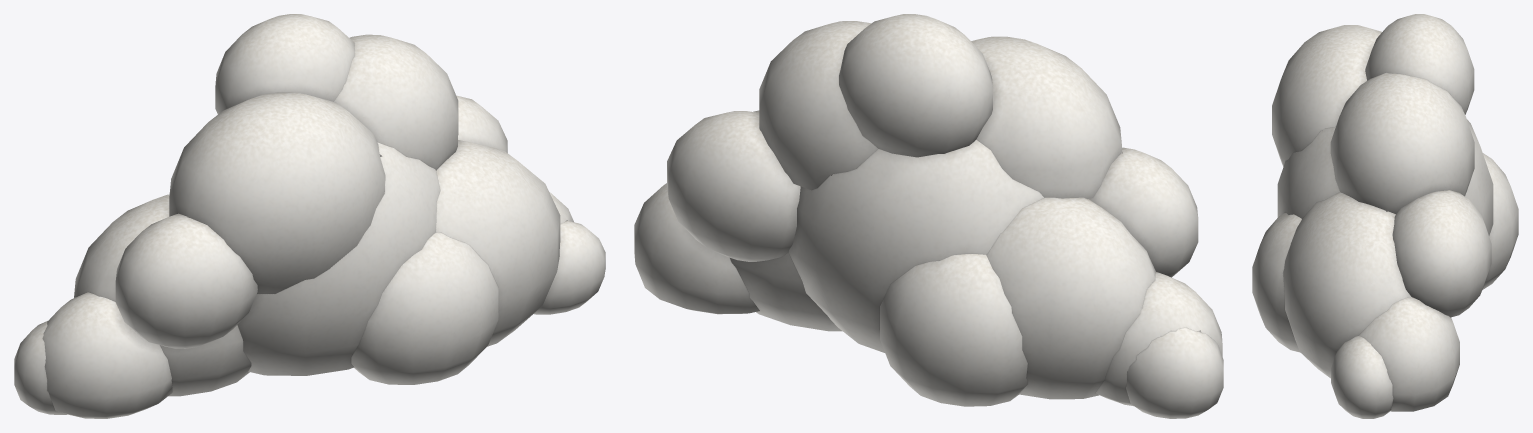
Rendered from giant_cloud.fbx.
3 renders of one model, left to right at view 1: azimuth 30°, elevation 25°; view 2: azimuth 150°, elevation 25°; view 3: azimuth 270°, elevation 25°, orthographic. The views are drawn at different scales.
Parts seen in each view (by area): view 1: Body; view 2: Body; view 3: Body.
Boxes of the visible parts, <box> form: Body: <box>14,14,605,418</box>; Body: <box>634,14,1223,418</box>; Body: <box>1252,14,1518,418</box>.
Size of the model in its own units: 33.64 by 18.2 by 15.53.
1 material, 1 textured.
